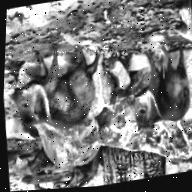boar: (2, 35, 110, 141), (121, 37, 192, 136)
